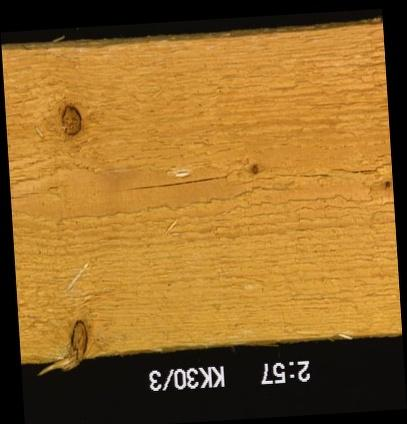dry_knot: (57, 101, 83, 136)
edge_knot: (64, 316, 90, 360)
small_knot: (245, 159, 260, 177), (379, 176, 391, 192)
split: (258, 159, 390, 184), (118, 169, 241, 195)
wave: (0, 29, 334, 59)
